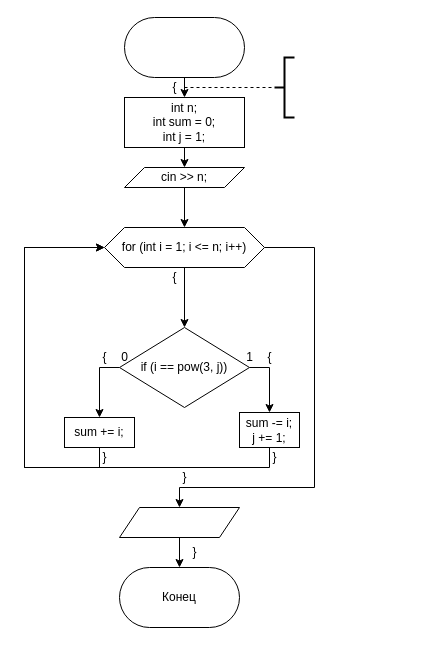
The diagram is 431 pixels wide and 645 high, and some of its shapes have lost their labels. The shapes that lost their labels are listed below. From the top down, each one's centre as x and y in pixels, then its label:
the point at 184,47: Начало
the point at 284,87: #include <iostream> using namespace std; int main()
the point at 179,522: cout << sum;
